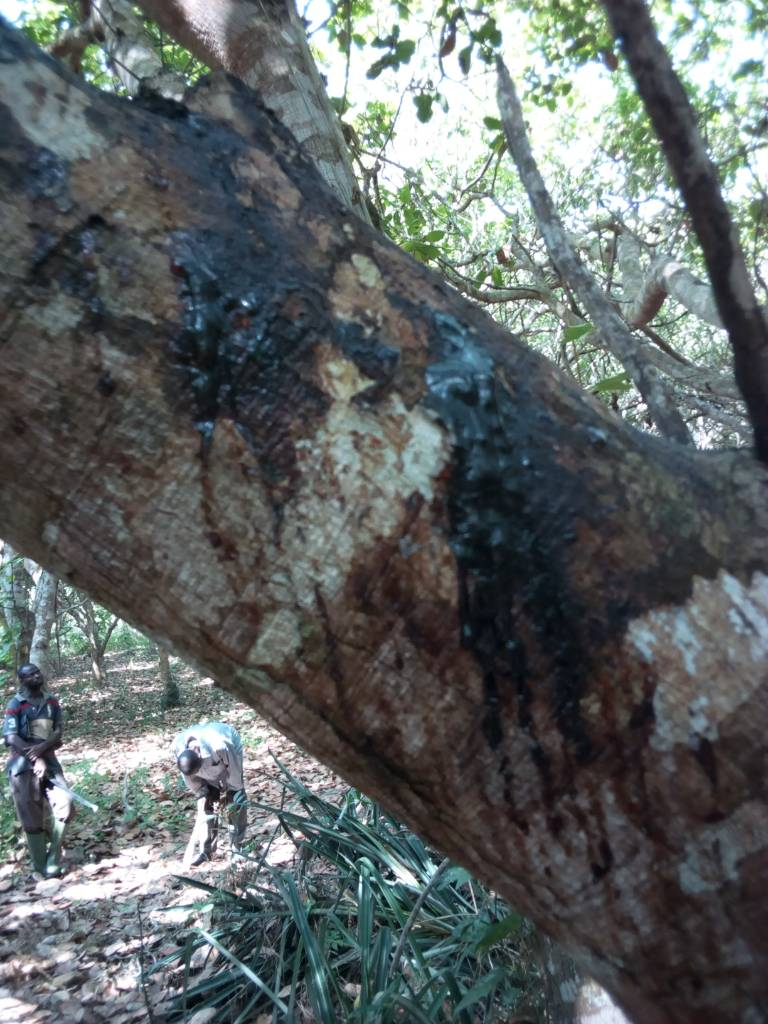Mecocorynus longiceps: (383, 330, 666, 795), (98, 166, 365, 580)
